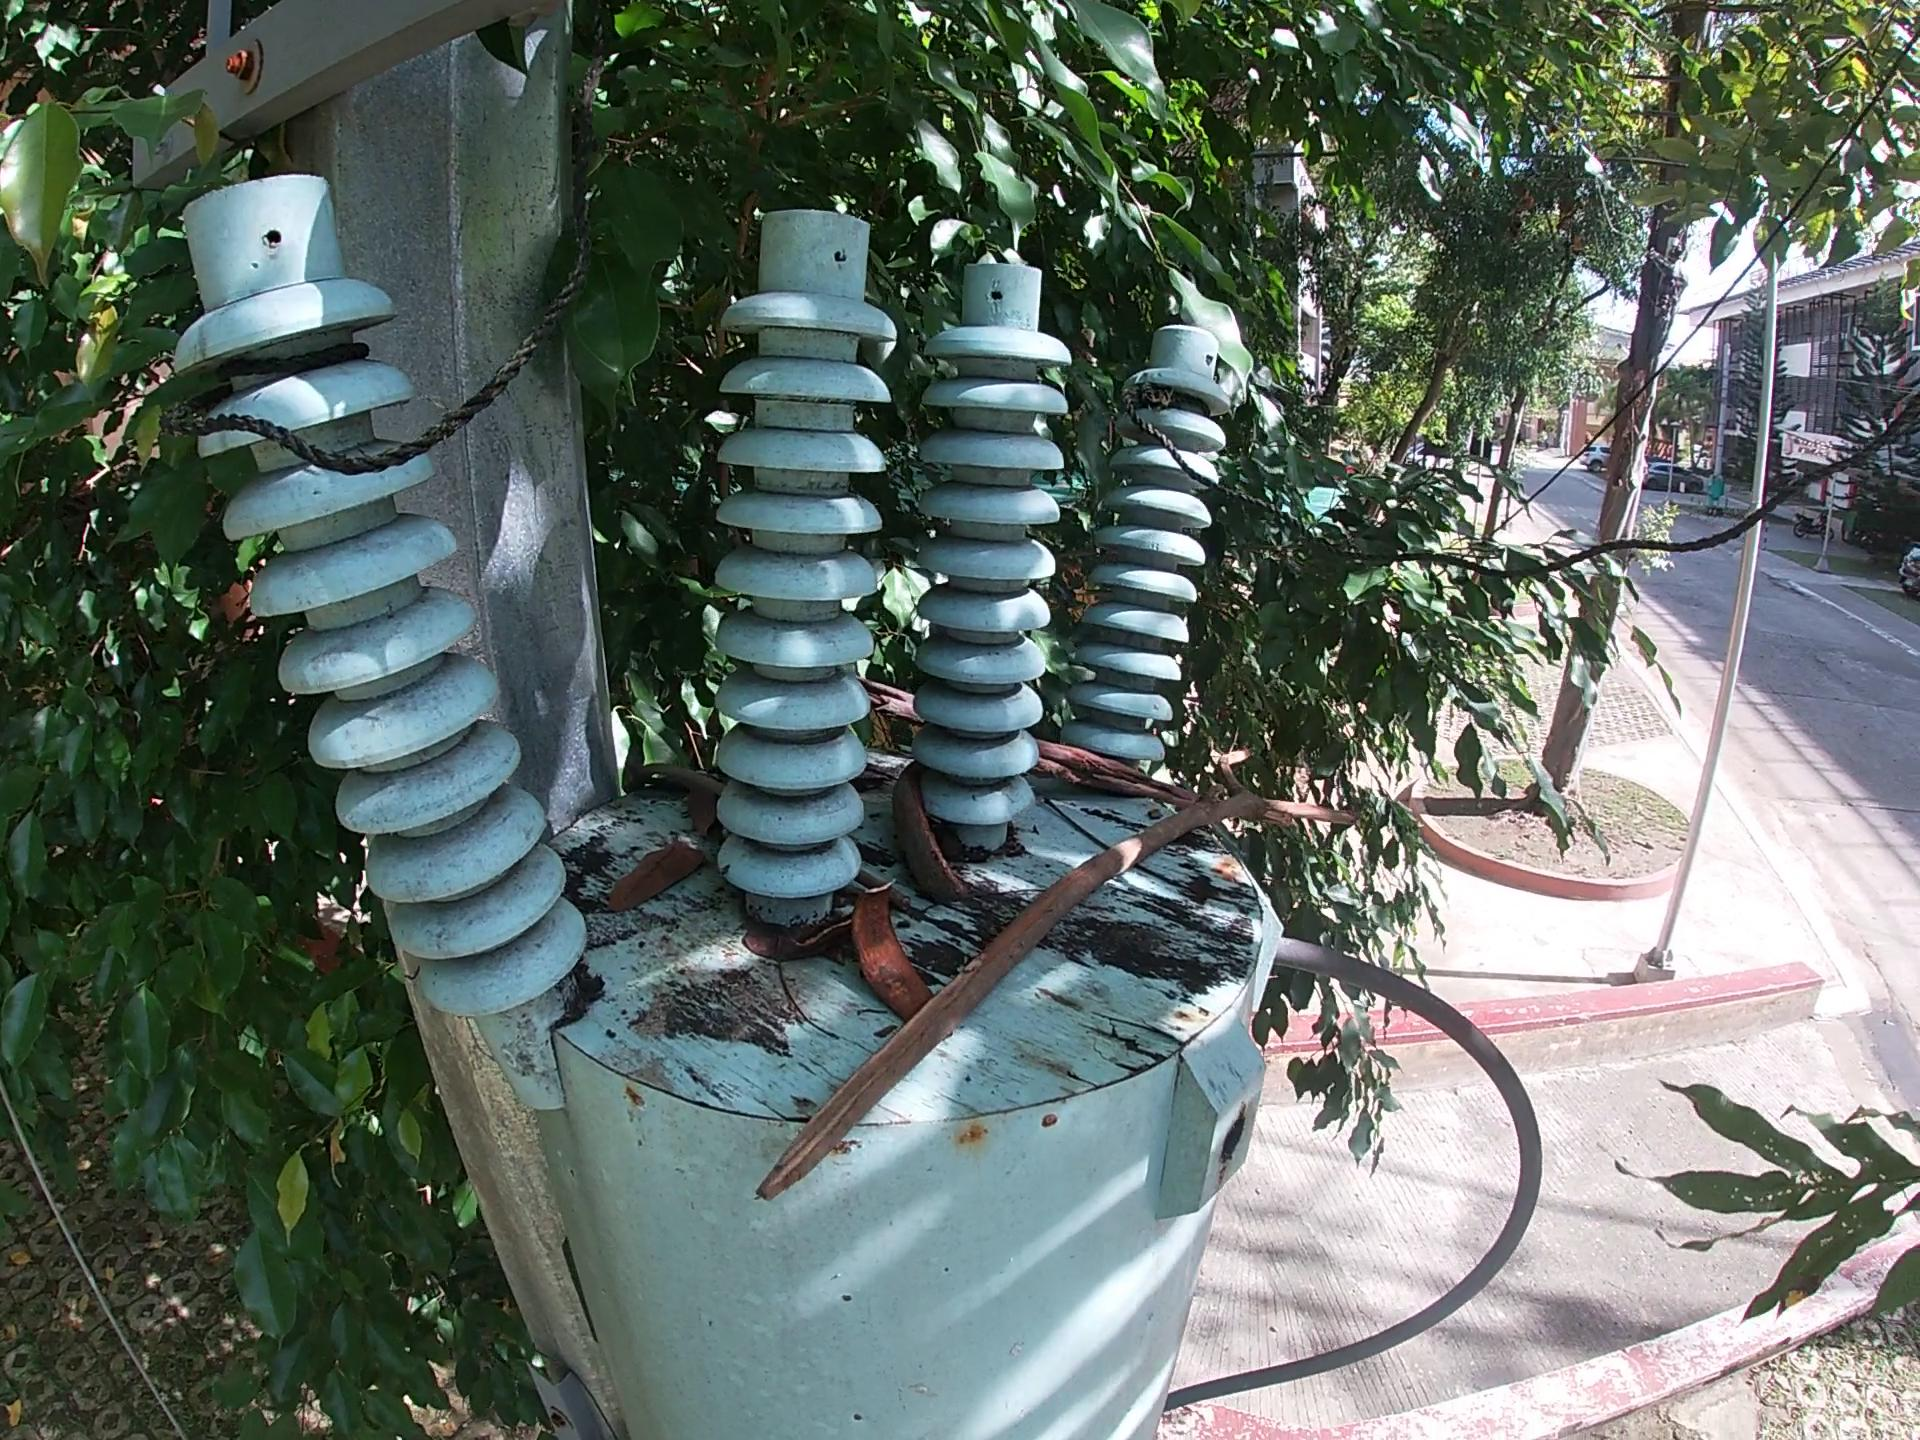leaf: (615, 843, 720, 903), (618, 774, 665, 799), (689, 794, 715, 838)
mahogany fruit: (890, 756, 969, 914), (847, 876, 927, 1026)
tree branch: (748, 746, 1423, 1218), (1023, 740, 1176, 803), (766, 961, 844, 1047), (1137, 868, 1259, 918), (736, 912, 850, 965), (1039, 790, 1110, 846), (627, 761, 724, 799), (862, 673, 913, 726)
